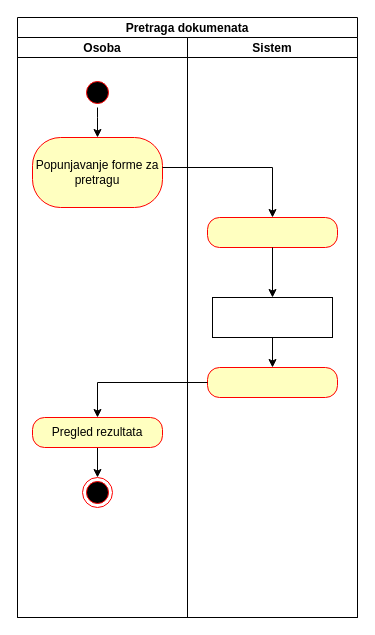
Some shapes in this 375 by 635 pixel diagram are drawn without their labels. The centre of each missing label's shape, as x and y in pixels:
"Pretraga i filtriranje rezultata" goes at [272,232].
"Prikaz rezultata" goes at [272,382].
"Rezultati pretrage" goes at [272,317].
